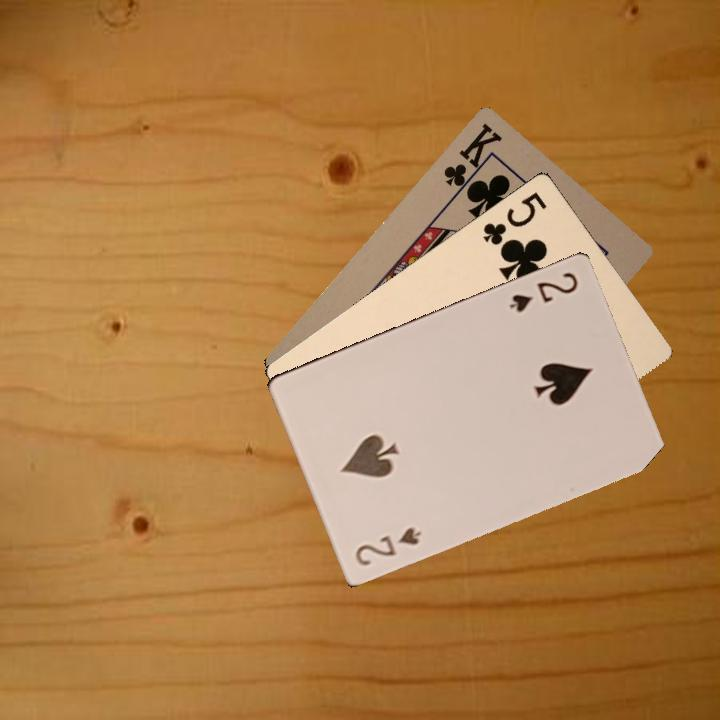2s: (506, 268, 581, 315), (351, 523, 424, 569)
5c: (478, 188, 549, 252)
Kc: (439, 118, 507, 200)
